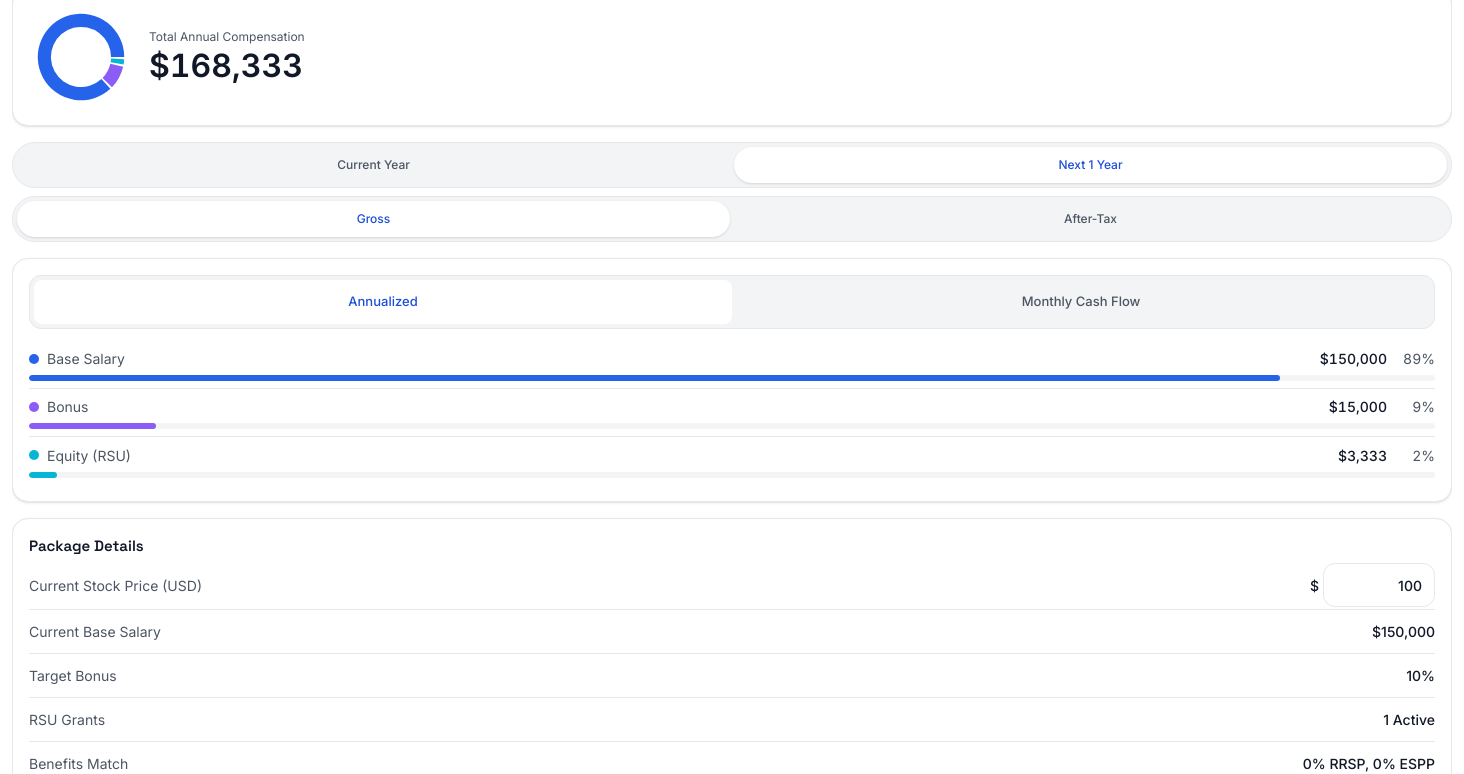
Test: CompensationMobile › edits the stock price from Package Details and locks it under CAD conversion
The image size is (1464, 774).
Step 1. Replace the text in the field labelled "Current Stock Price (USD)" with "125" → [1379, 585], box 1323,563 -> 1435,607
(page scrolled)
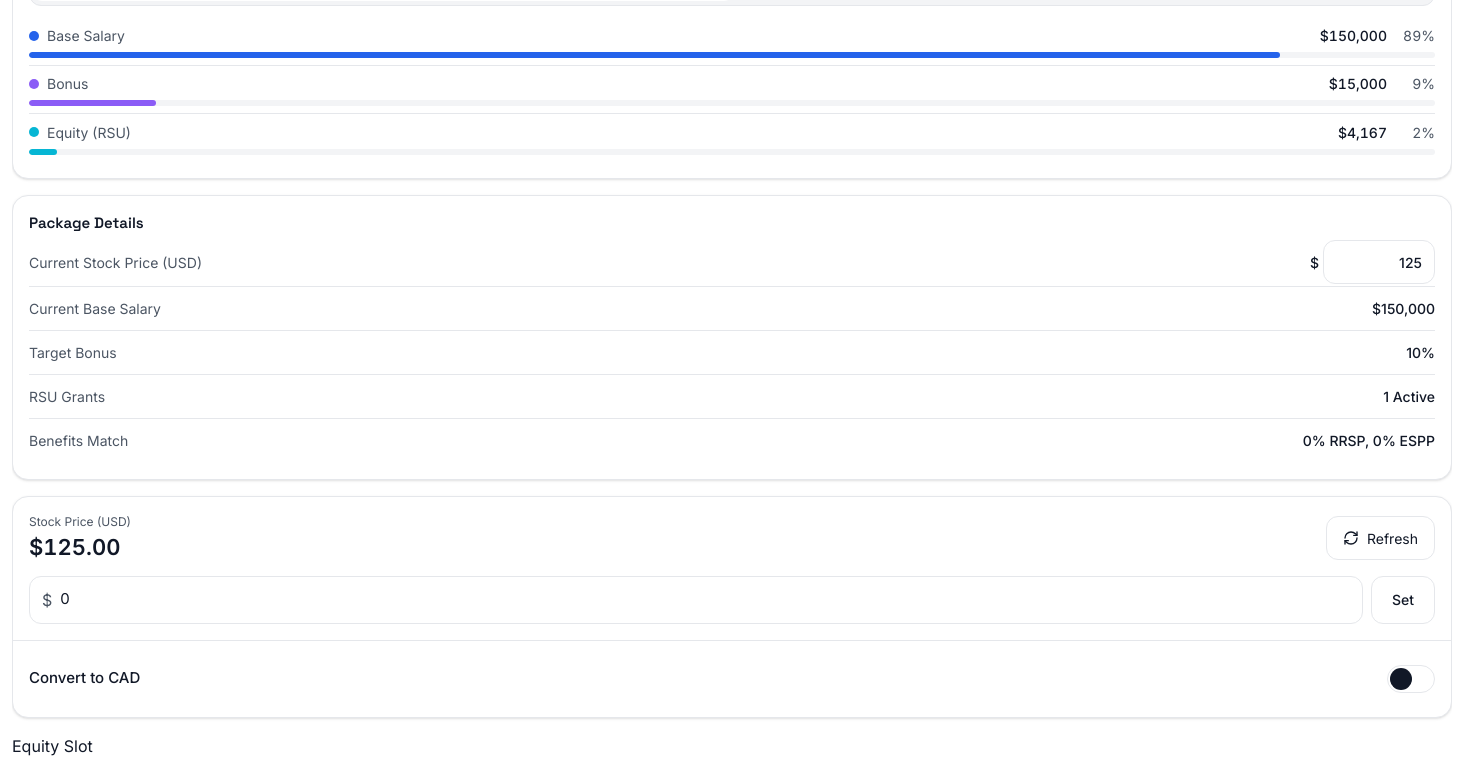
Step 2. Click the switch named "Convert to CAD" → [1411, 678], box 1387,664 -> 1435,692
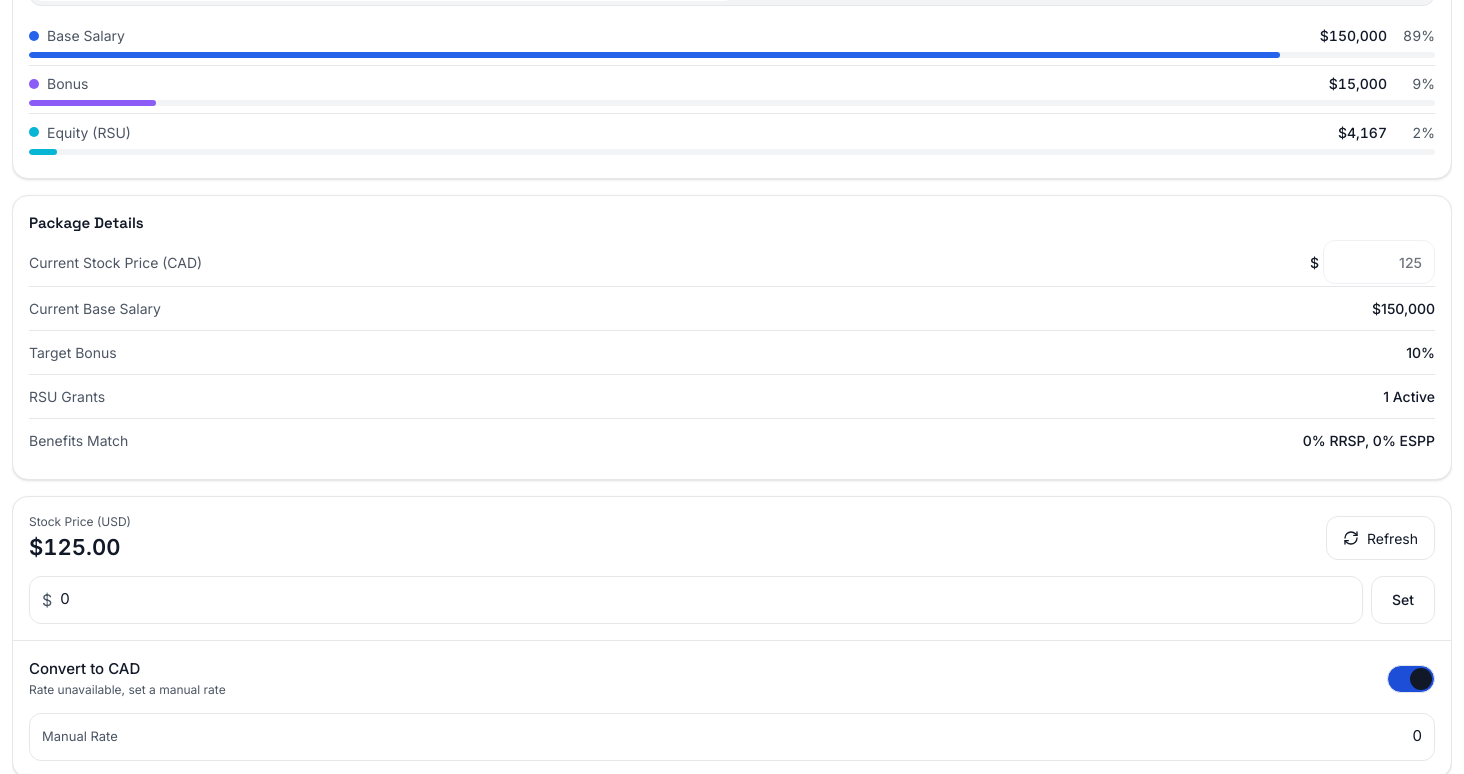
expect the field labelled "Current Stock Price (CAD)" is disabled: met, box 1323,240 -> 1435,284
